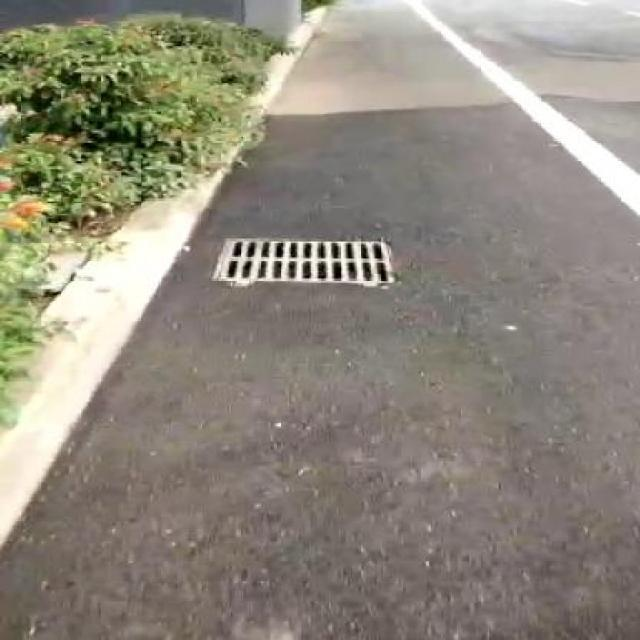Manhole: (214, 232, 411, 292)
